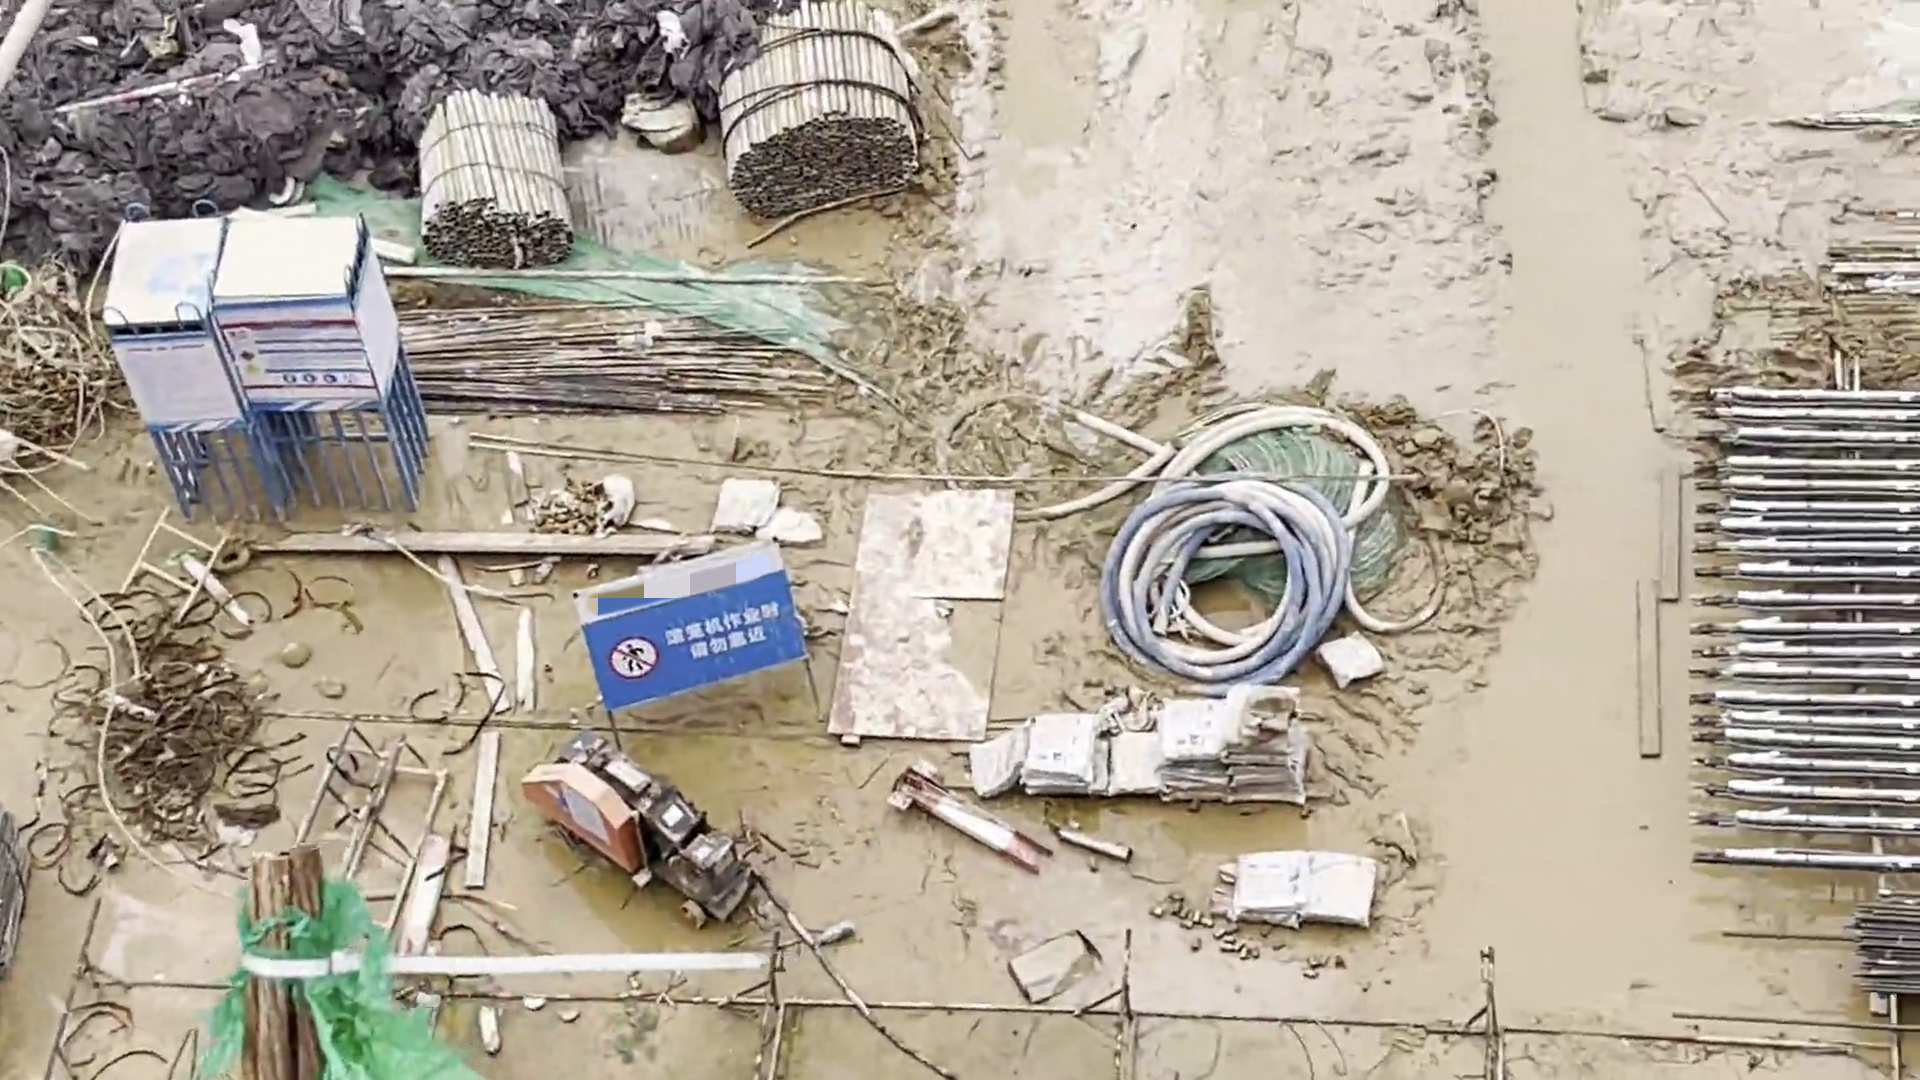rebar: (1826, 889, 1920, 1000)
slogan: (575, 533, 808, 700)
